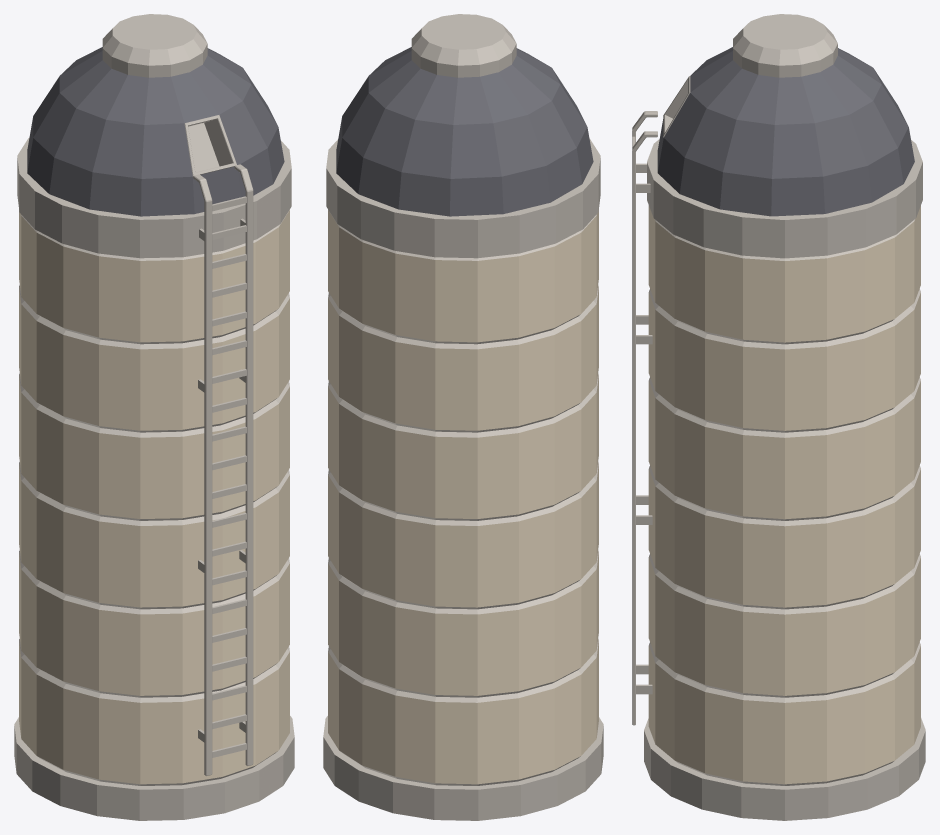
File: farmstructure_e.gltf
3 renders of one model, left to right at view 1: azimuth 30°, elevation 25°; view 2: azimuth 150°, elevation 25°; view 3: azimuth 270°, elevation 25°, orthographic.
Parts seen in each view (by area): view 1: farmstructure_e001; view 2: farmstructure_e001; view 3: farmstructure_e001.
Part boxes in pixels (box(x1,y1,x2,y2)): farmstructure_e001: box(14, 14, 294, 820); farmstructure_e001: box(323, 14, 603, 820); farmstructure_e001: box(632, 14, 925, 820).
Size of the model in its own units: 3.68 by 10.5 by 3.83.
Materials: 1 (1 with a texture image).
